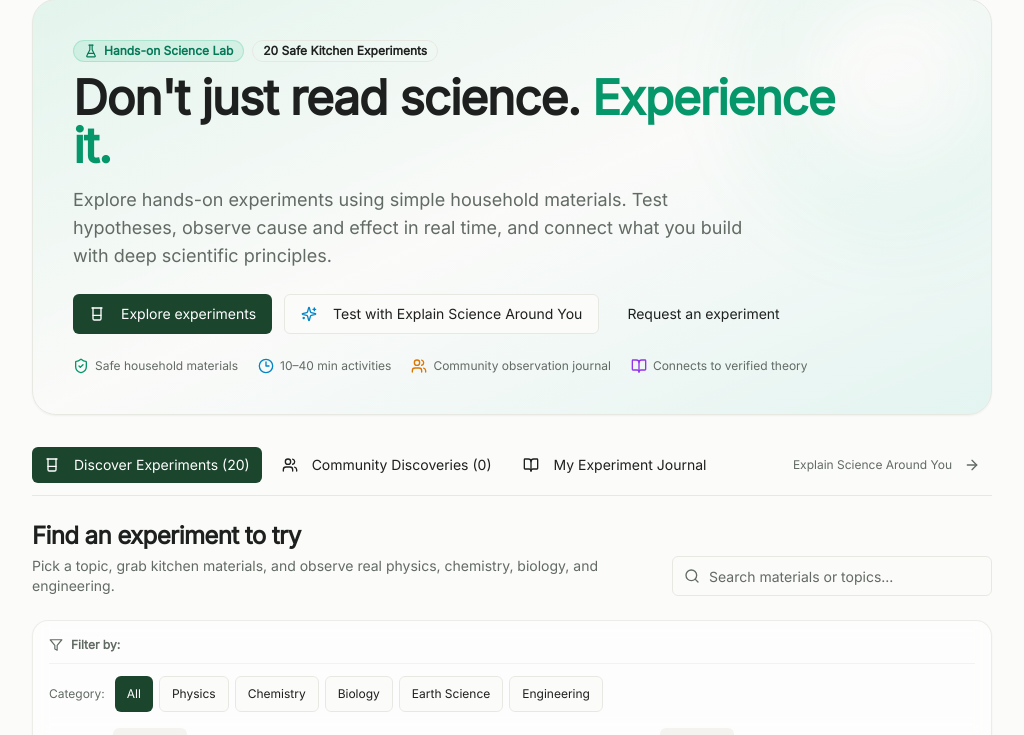
Test: ScienceLab page and experiments section › filters experiments by category, difficulty, duration and search text
Filter by Physics
Click the button "Physics" at (194, 694), box [159,676,229,712]
(page scrolled)
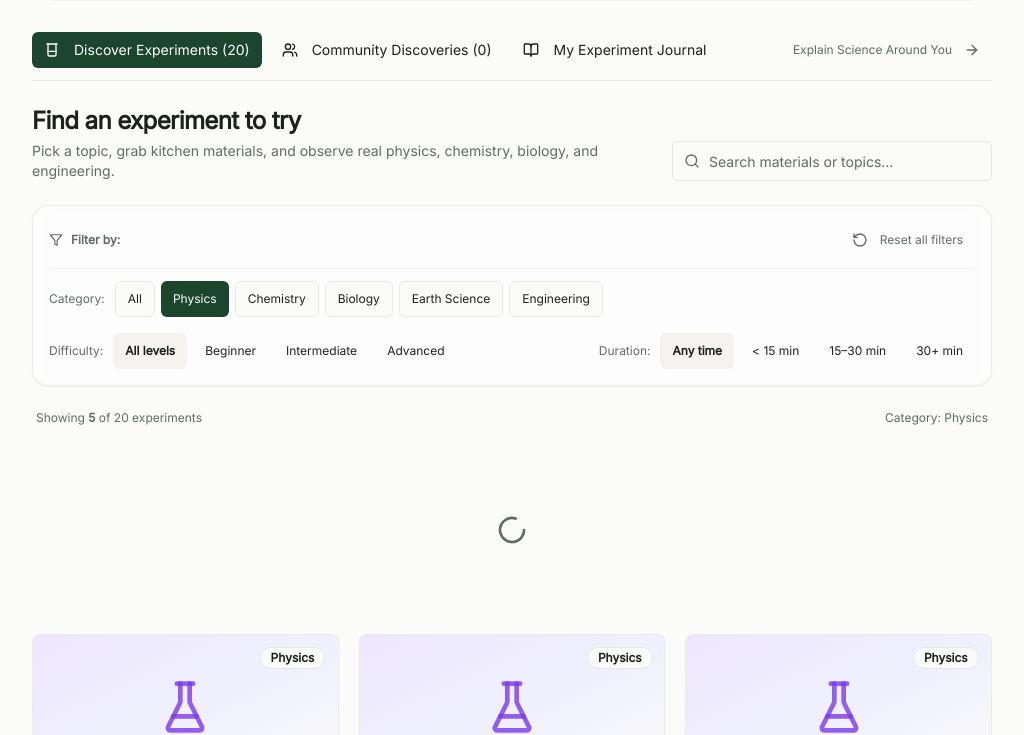
Check: the text "Make a Layered Liquid Density Tower" is not shown
Filter by Difficulty
Click the button "Intermediate" at (322, 351), box [274,333,369,369]
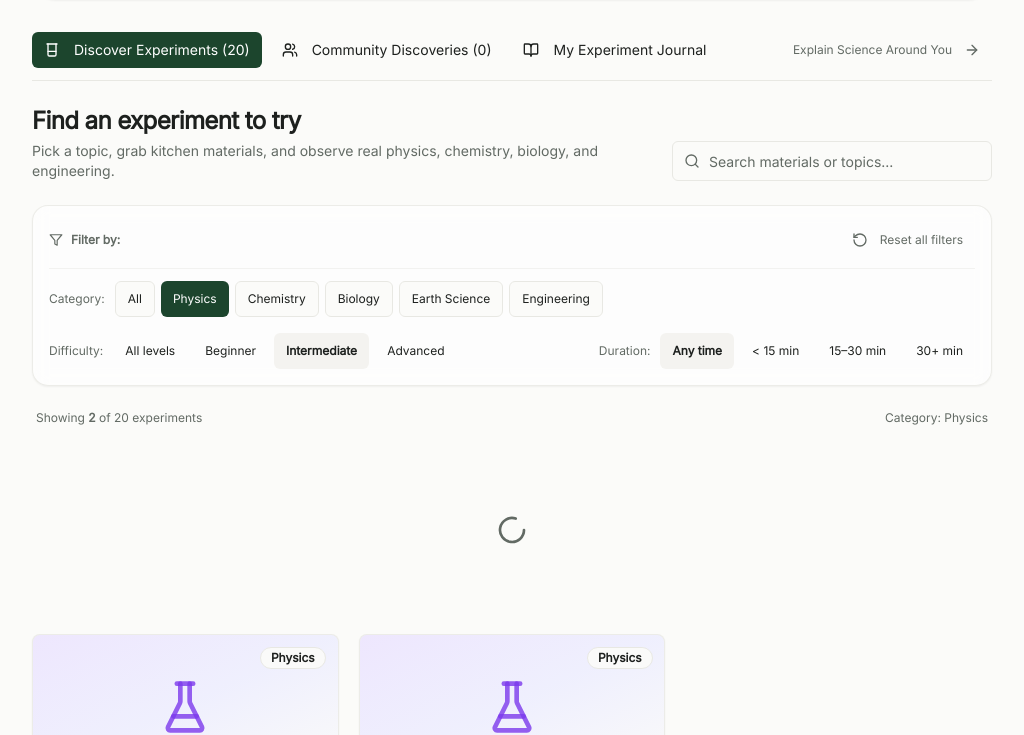
Search query
Type "Periscope" into the field with placeholder "Search materials or topics..." at (832, 161), box [672,141,992,181]
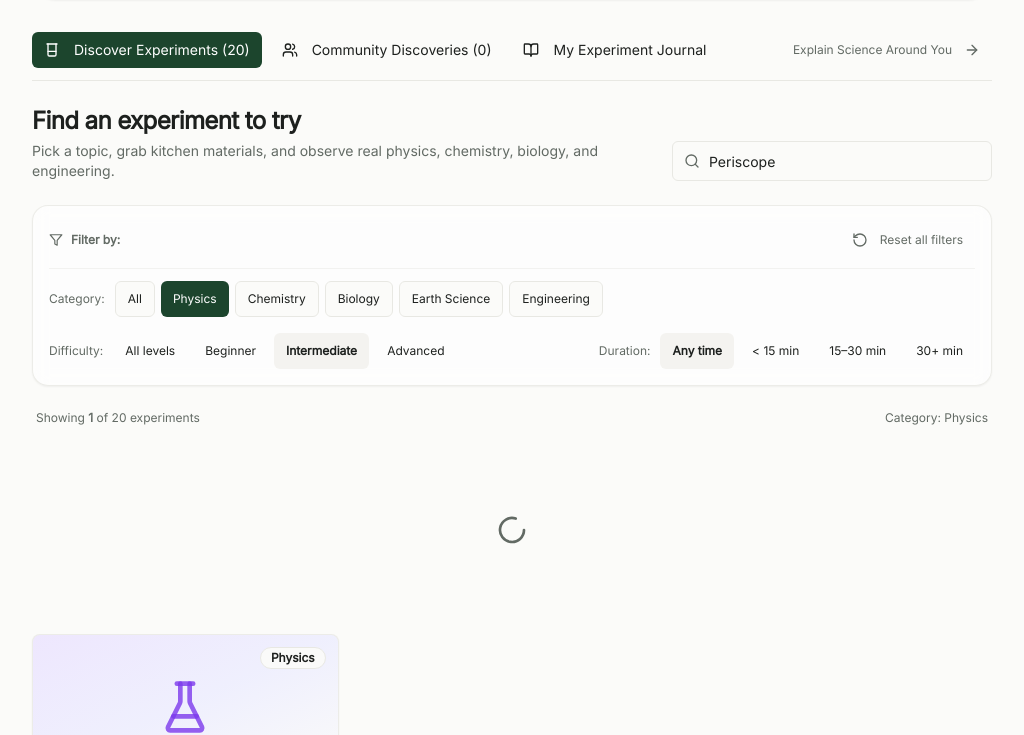
Clear filters
Click the button "Reset all filters" at (907, 240), box [840,222,975,258]
(page scrolled)
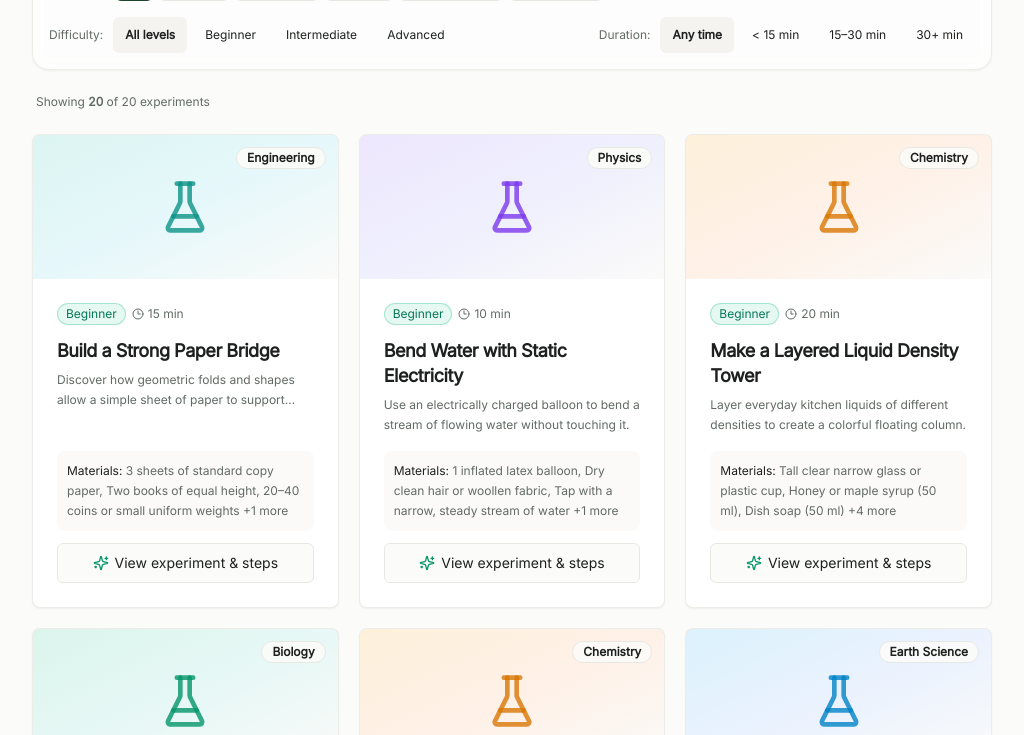
Check: the heading "Build a Strong Paper Bridge" is shown, box [57,339,314,364]
